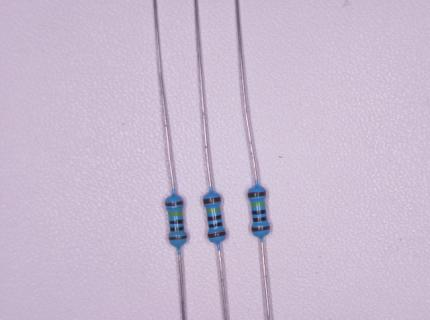Black band: (208, 215, 221, 221), (169, 219, 183, 224), (252, 210, 266, 215), (253, 217, 267, 222), (209, 222, 222, 227), (170, 227, 184, 231)
Brown band: (203, 197, 221, 204), (208, 231, 226, 238), (248, 191, 266, 198), (252, 226, 270, 232), (165, 201, 183, 206), (169, 235, 187, 240)
Yellow band: (207, 207, 220, 213), (168, 211, 183, 216), (251, 202, 265, 206)
